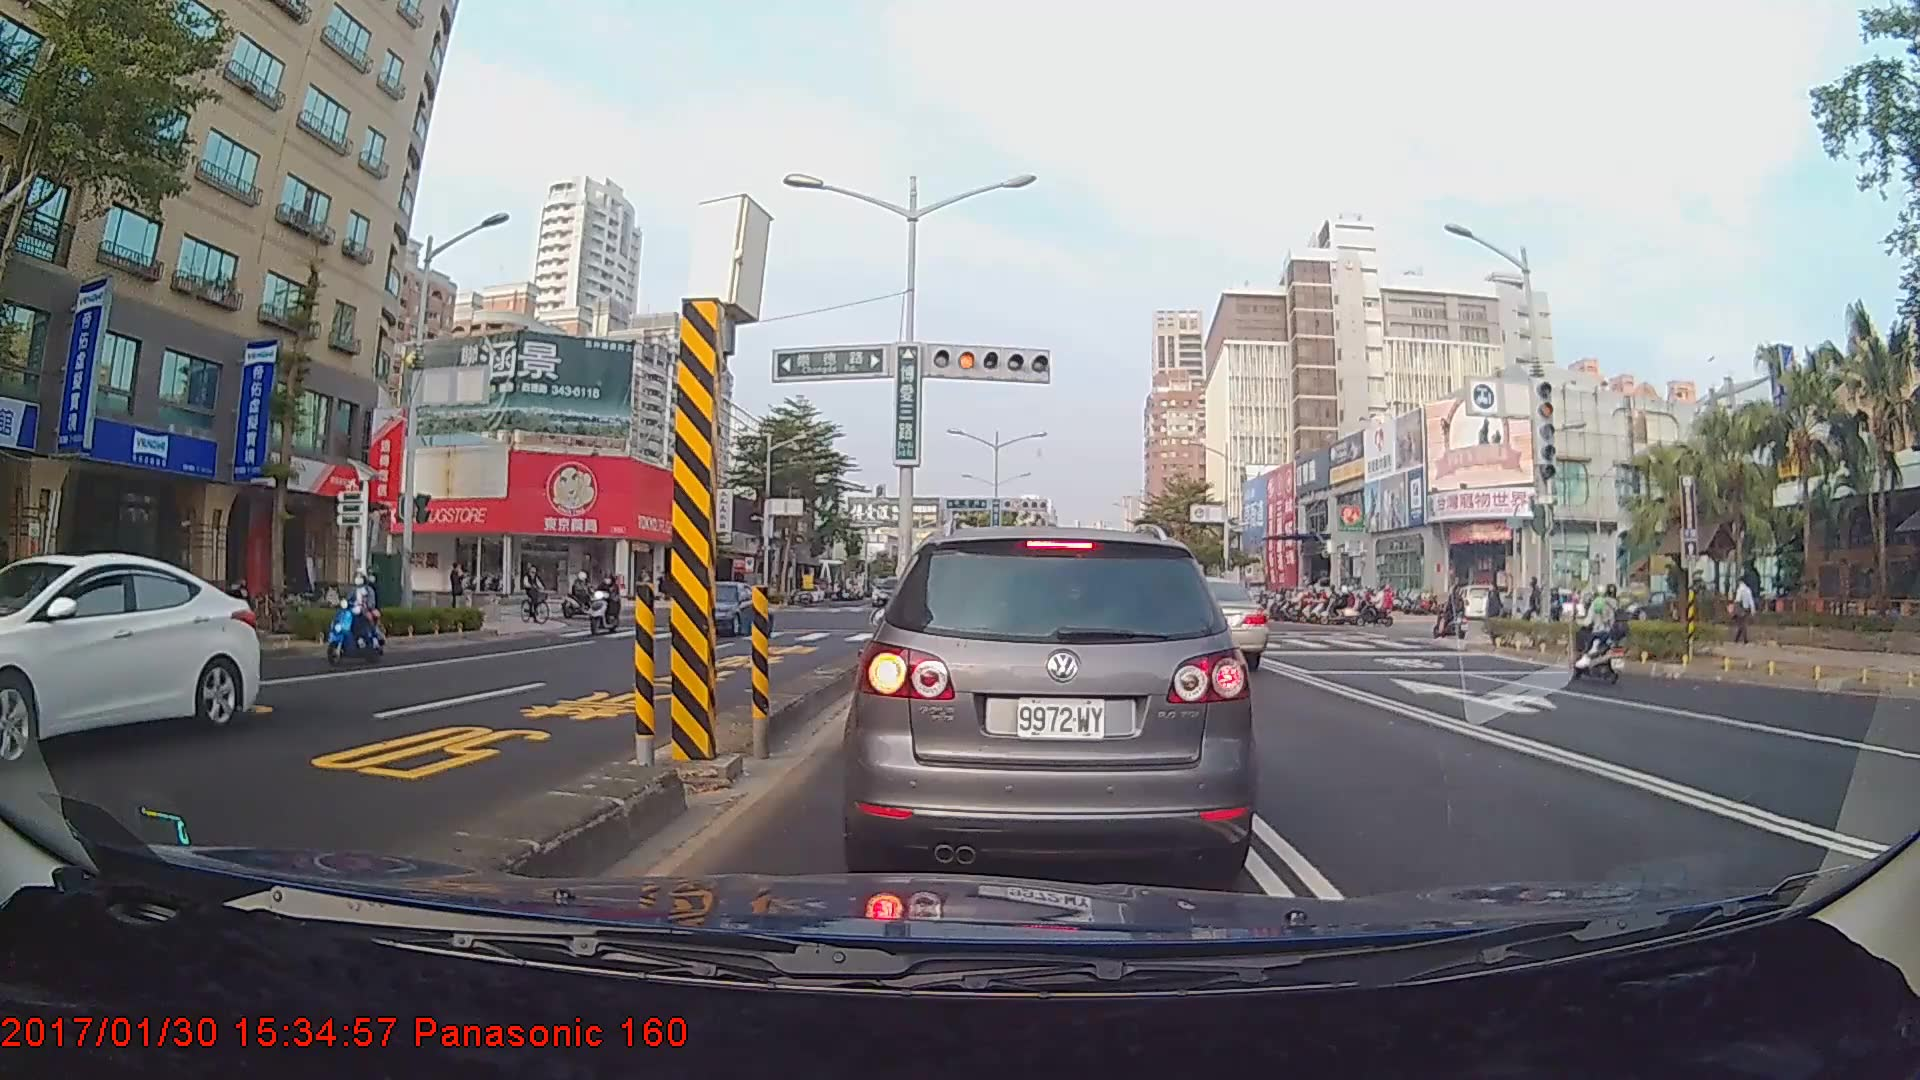pedestrian: (1731, 576, 1757, 644), (447, 563, 467, 620)
rider: (1568, 580, 1641, 685), (331, 570, 395, 665), (585, 566, 631, 641), (562, 566, 609, 619), (1435, 584, 1473, 640), (522, 566, 551, 627)
vehicle: (855, 503, 1251, 873), (0, 549, 259, 767), (667, 580, 765, 637)
